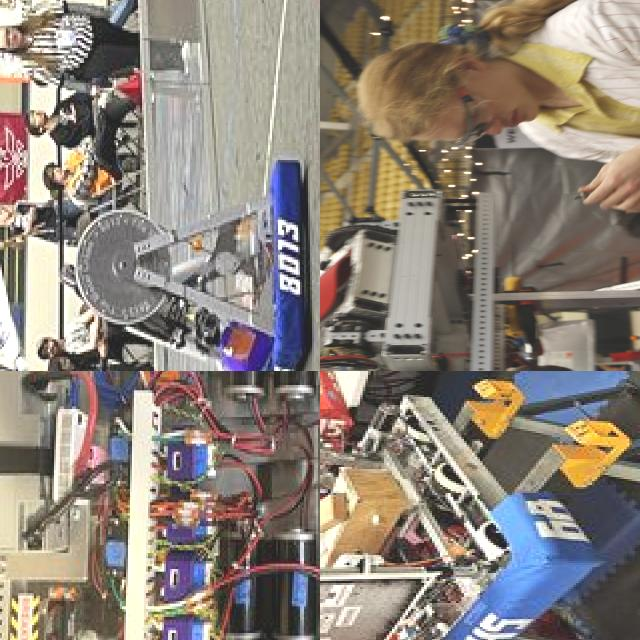FRC-Robots: (0, 371, 320, 640), (0, 126, 304, 371), (320, 371, 546, 640)
